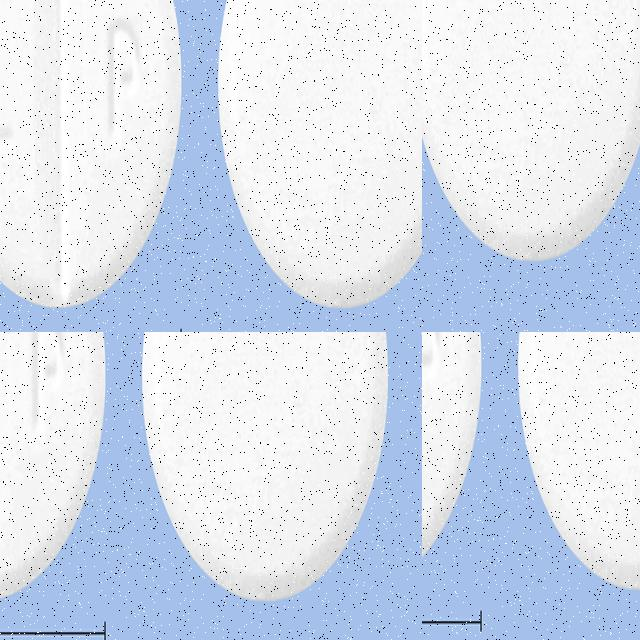Lamisil: (516, 332, 640, 589), (422, 332, 485, 593)
Lenomid: (422, 0, 640, 263)
Levofloxacin Tab- Dongsung: (0, 413, 160, 640)
Propocin Tab: (61, 91, 280, 332)
